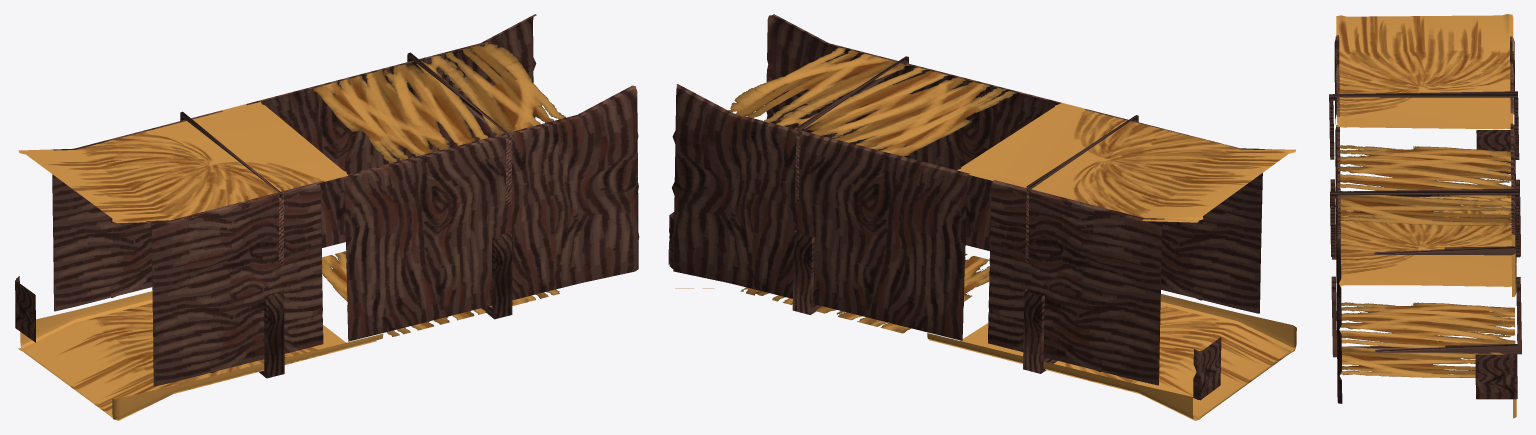
The model's file is Farm_HayBale.FBX.
The picture shows the model from 3 angles, left to right: view 1: azimuth 30°, elevation 25°; view 2: azimuth 150°, elevation 25°; view 3: azimuth 270°, elevation 25°; orthographic projection. The views are drawn at different scales.
Visible parts, largest first — view 1: haystack_part003; view 2: haystack_part003; view 3: haystack_part003.
Part boxes in pixels (left/top/right/bottom): haystack_part003: left=15, top=14, right=639, bottom=420; haystack_part003: left=668, top=14, right=1296, bottom=420; haystack_part003: left=1329, top=14, right=1521, bottom=418.
Size of the model in its own units: 243 by 91.7 by 84.9.
